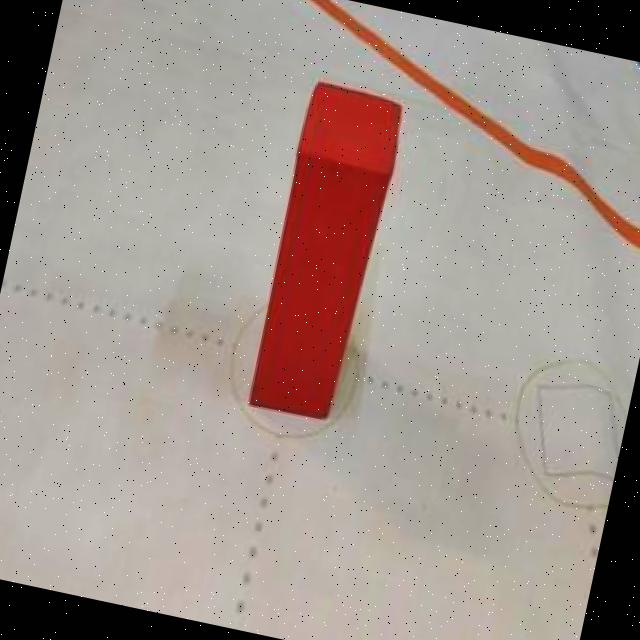redbox: (243, 78, 400, 420)
